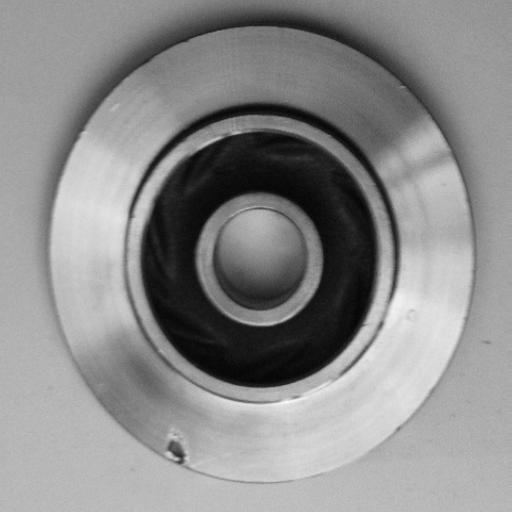crack: (152, 425, 204, 478)
unpolished_casting: (47, 24, 477, 486)
